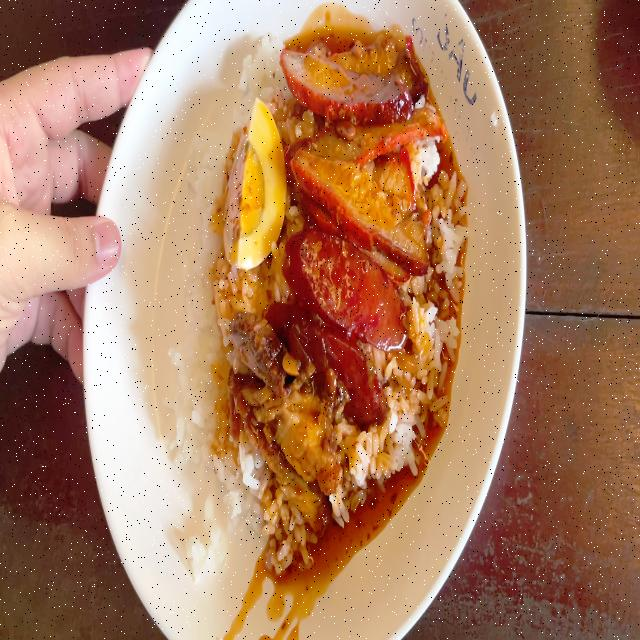boiled_egg: (224, 99, 284, 263)
chainese_sausage: (289, 230, 401, 412)
crispy_pork: (268, 392, 344, 519), (228, 319, 284, 466)
red_pork: (284, 48, 448, 259)
red_pork_and_crispy_pork: (193, 41, 453, 514)
rice: (174, 353, 237, 566), (404, 279, 452, 419), (350, 428, 420, 487)
